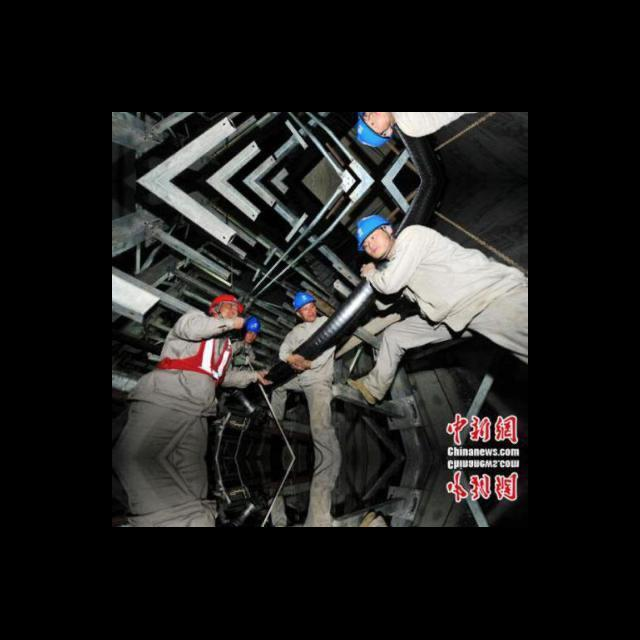Hardhat: (354, 215, 390, 247), (354, 115, 387, 149), (208, 295, 244, 313), (292, 293, 318, 313), (246, 319, 260, 334)
NO-Mask: (369, 243, 390, 257), (215, 310, 235, 321), (372, 112, 393, 121), (305, 313, 316, 322), (243, 335, 252, 344)
NO-Safety Vest: (394, 228, 500, 320), (294, 321, 332, 369), (399, 112, 463, 134), (227, 345, 253, 367)
Person: (346, 215, 528, 409), (130, 292, 275, 404), (266, 292, 337, 434), (222, 318, 258, 370)
Safety Vest: (162, 334, 232, 381)
